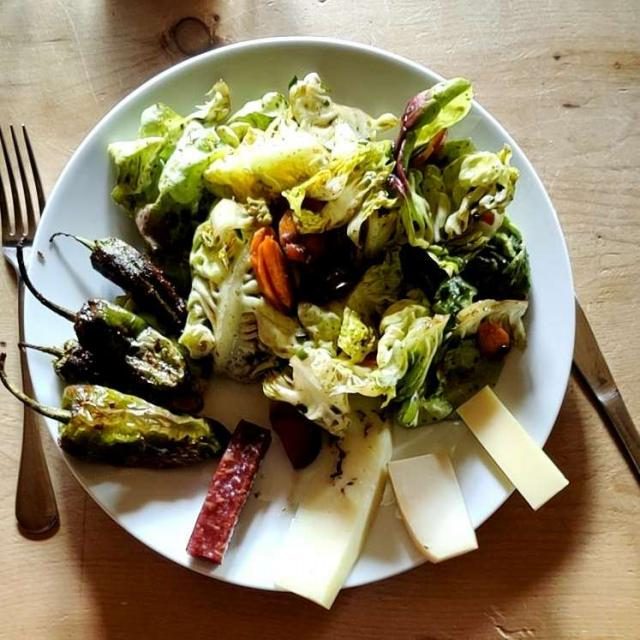bell-pepper-red-raw: (5, 234, 234, 479)
hard-cheese: (274, 378, 581, 611)
salad-leaf-salad-green: (122, 61, 523, 451)
